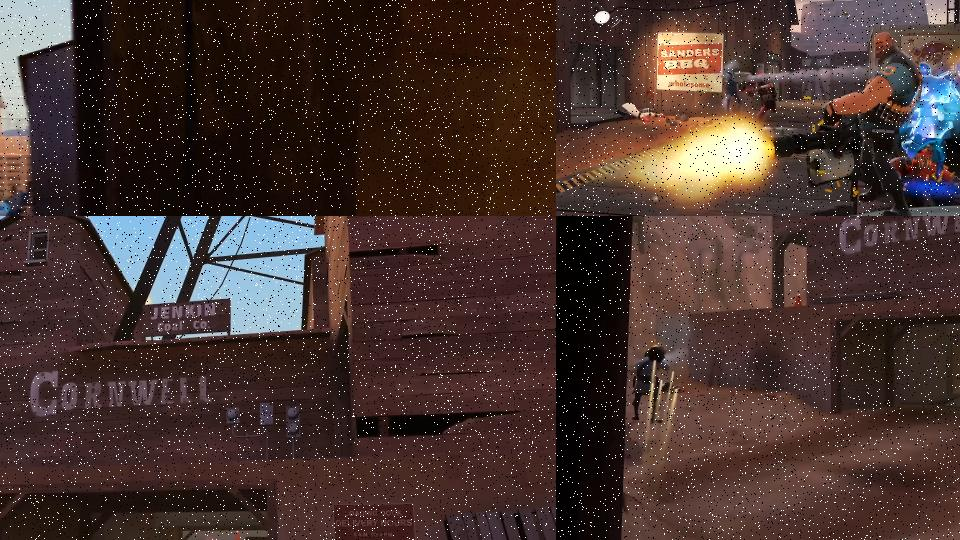Enemy: (763, 30, 923, 216), (900, 52, 960, 182), (632, 346, 670, 423), (746, 72, 778, 120), (722, 70, 747, 119), (612, 103, 668, 124), (0, 186, 29, 216)
